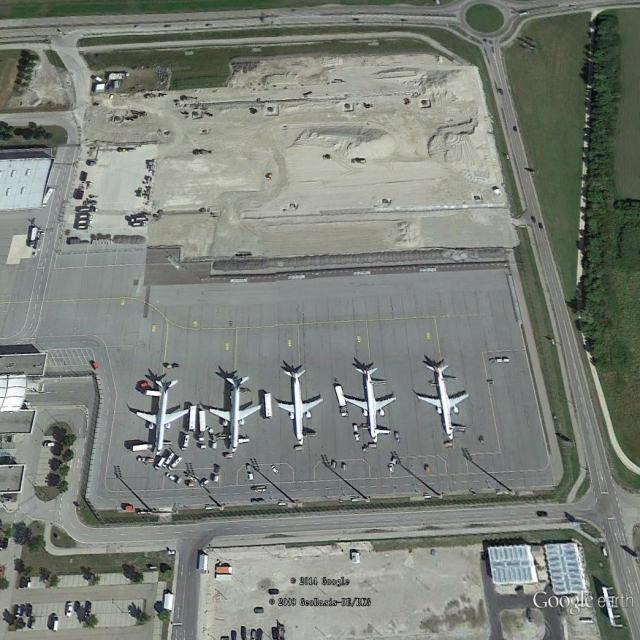aircraft: (412, 360, 475, 446), (135, 377, 195, 461), (206, 373, 266, 457), (339, 361, 398, 445), (273, 366, 326, 450)
